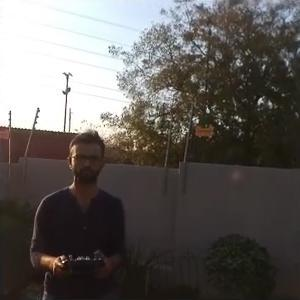follow: (26, 121, 129, 298)
